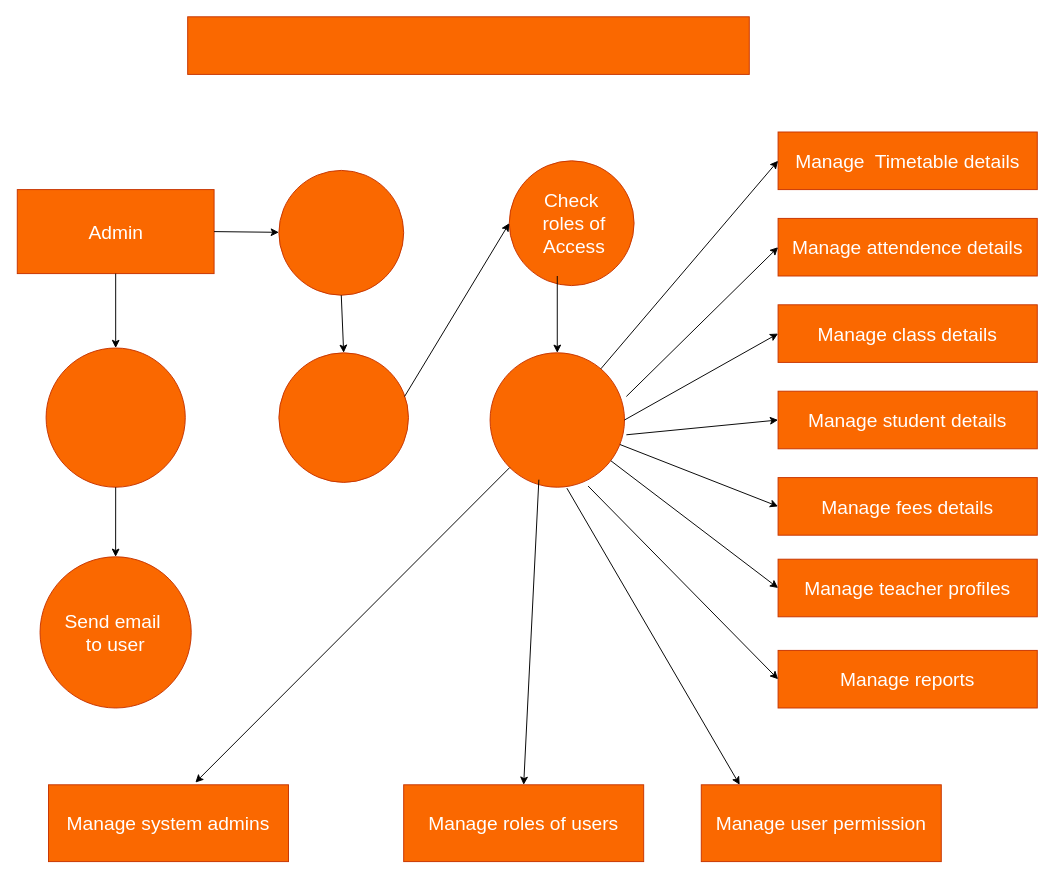
Some shapes in this 1054 by 878 pixel diagram are drawn without their labels. The box of each missing label's shape, as (x1, y1, x2, y2) in pixels:
Check credentials: (278, 352, 408, 482)
Forgot Password: (45, 347, 185, 487)
Login to systems: (278, 169, 404, 295)
Manage modules: (489, 352, 624, 487)
Student Information System: (187, 16, 749, 74)
